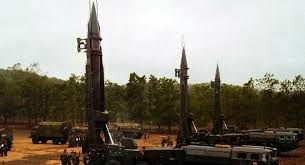maybay_muctieu: (79, 3, 112, 140), (171, 41, 195, 140), (212, 58, 226, 133)
